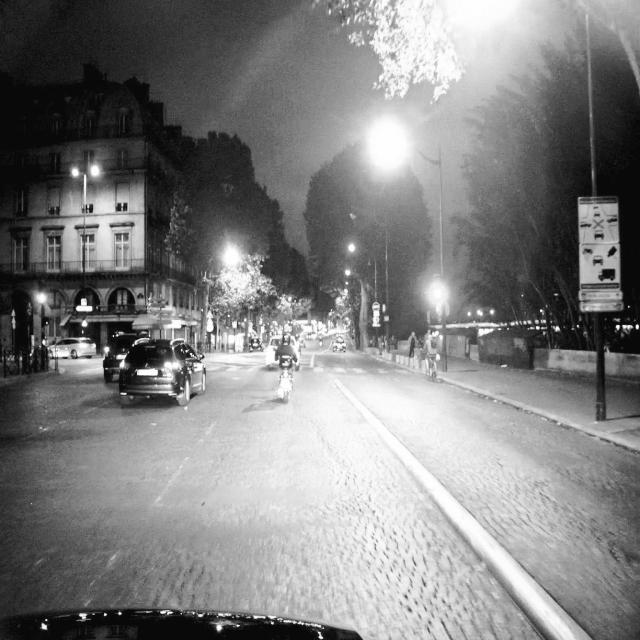Sign: (577, 196, 620, 314)
